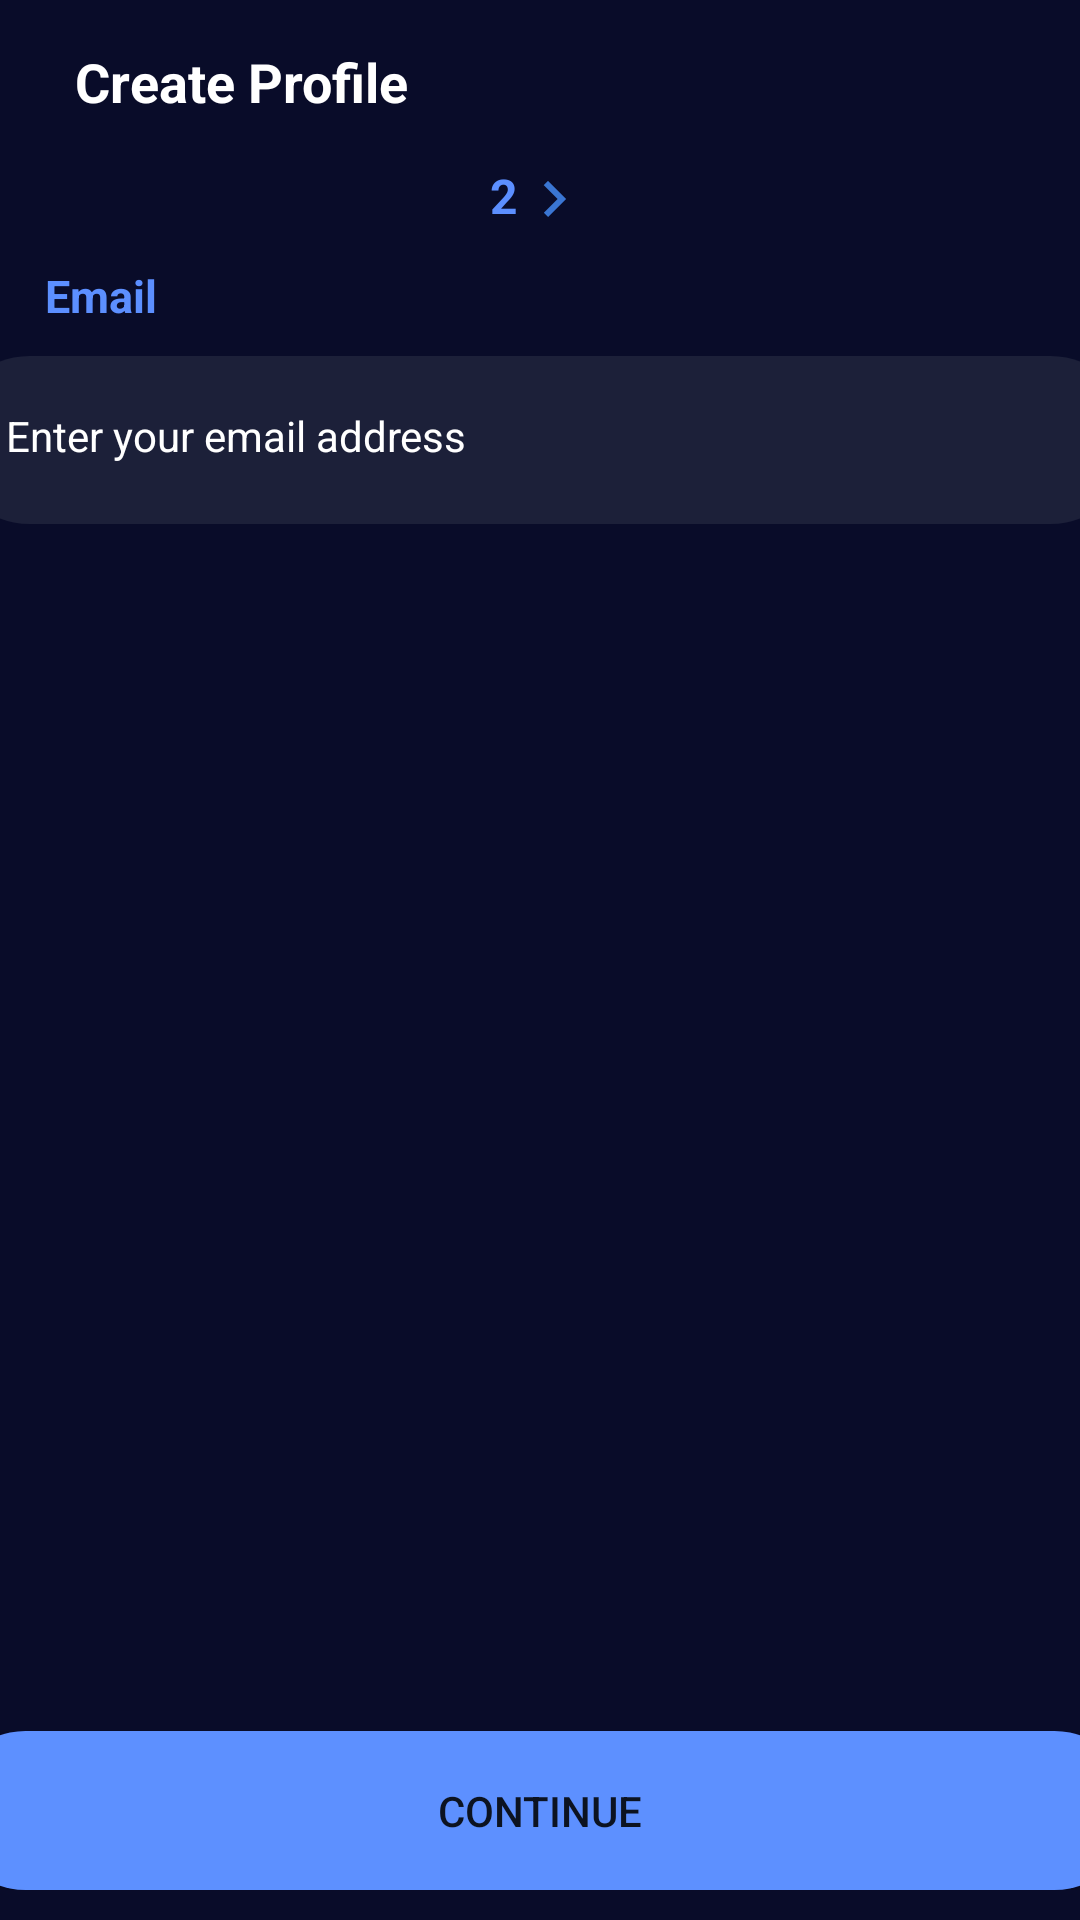

Icons on this 1080w x 1920h Android screen, each with its box as (x1, y1, x2, y2):
rightarrow: (544, 181, 566, 217)
